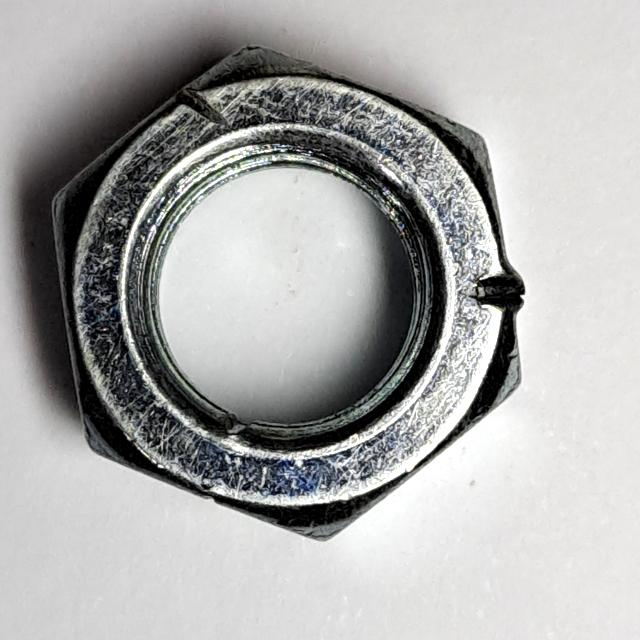Scratches: (38, 34, 547, 565)
